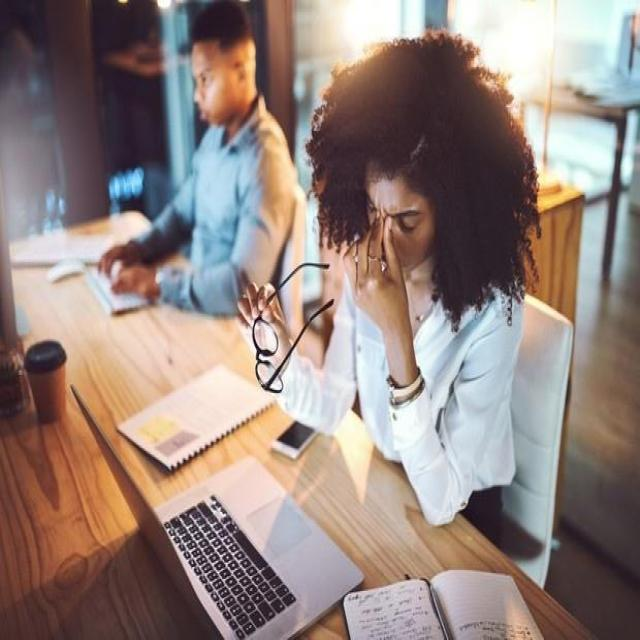person: (304, 28, 532, 533), (142, 8, 302, 346)
